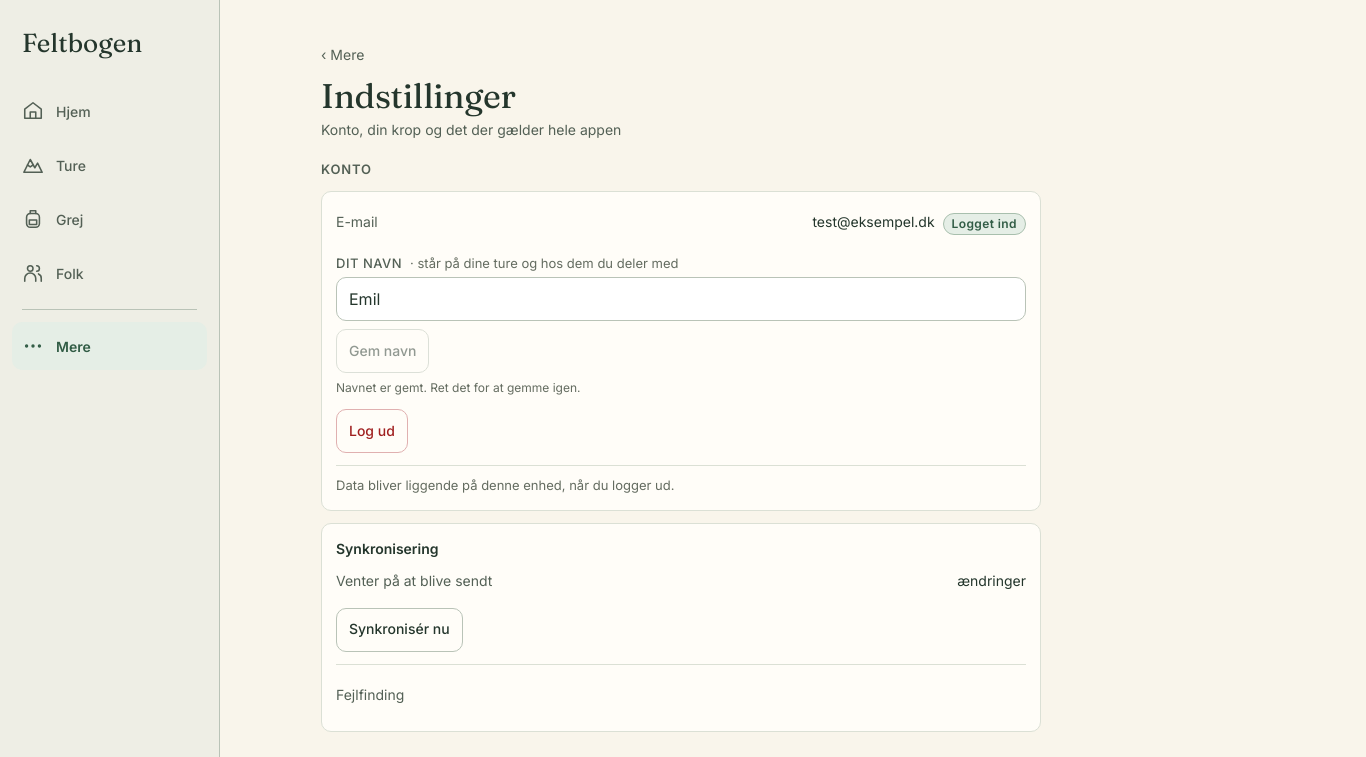
Test: navnet må ikke være tomt › gemmer et rettet navn og kvitterer
This screenshot has width=1366, height=757.
Replace the text in the field labelled "Dit navn· står på dine ture og hos dem du deler med" with "Emil K" at (681, 299), box [336,277,1026,321]
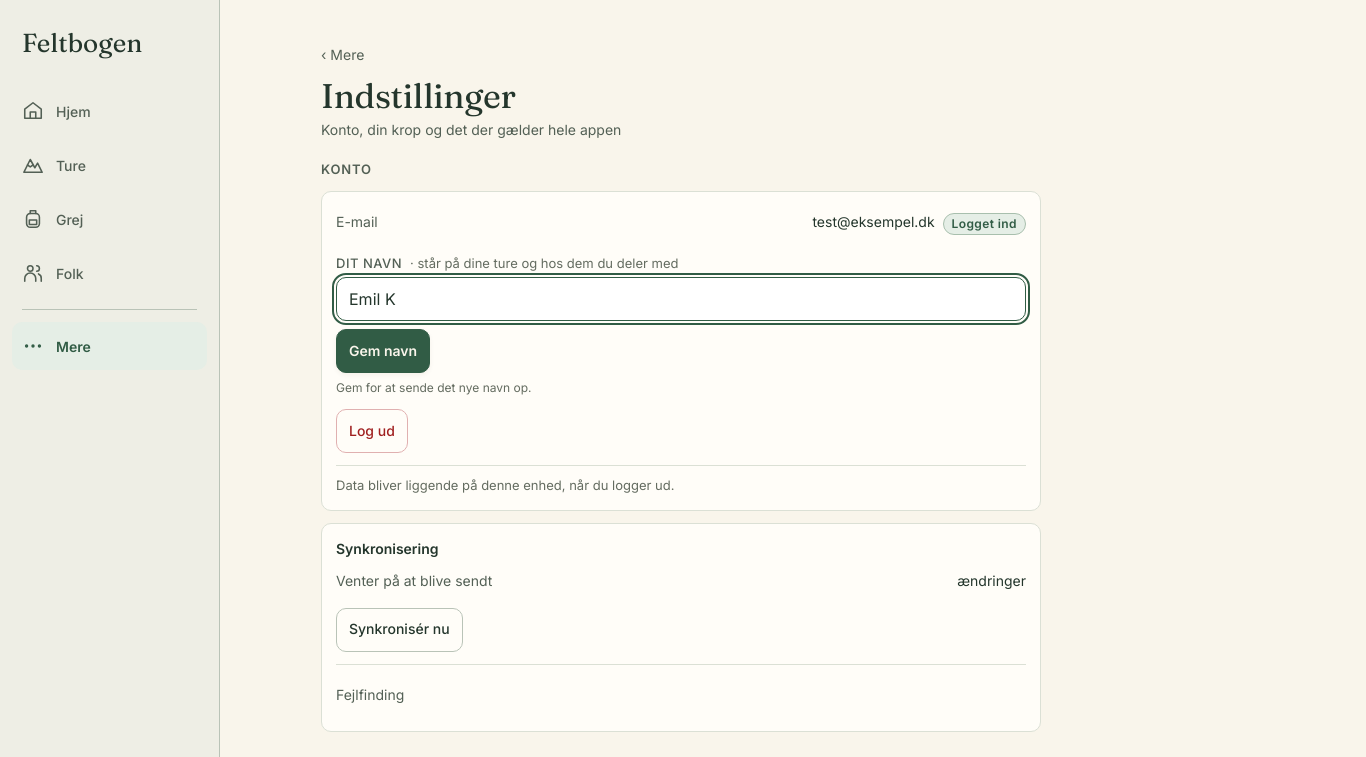
Click the button "Gem navn" at (383, 351), box [336,329,430,373]
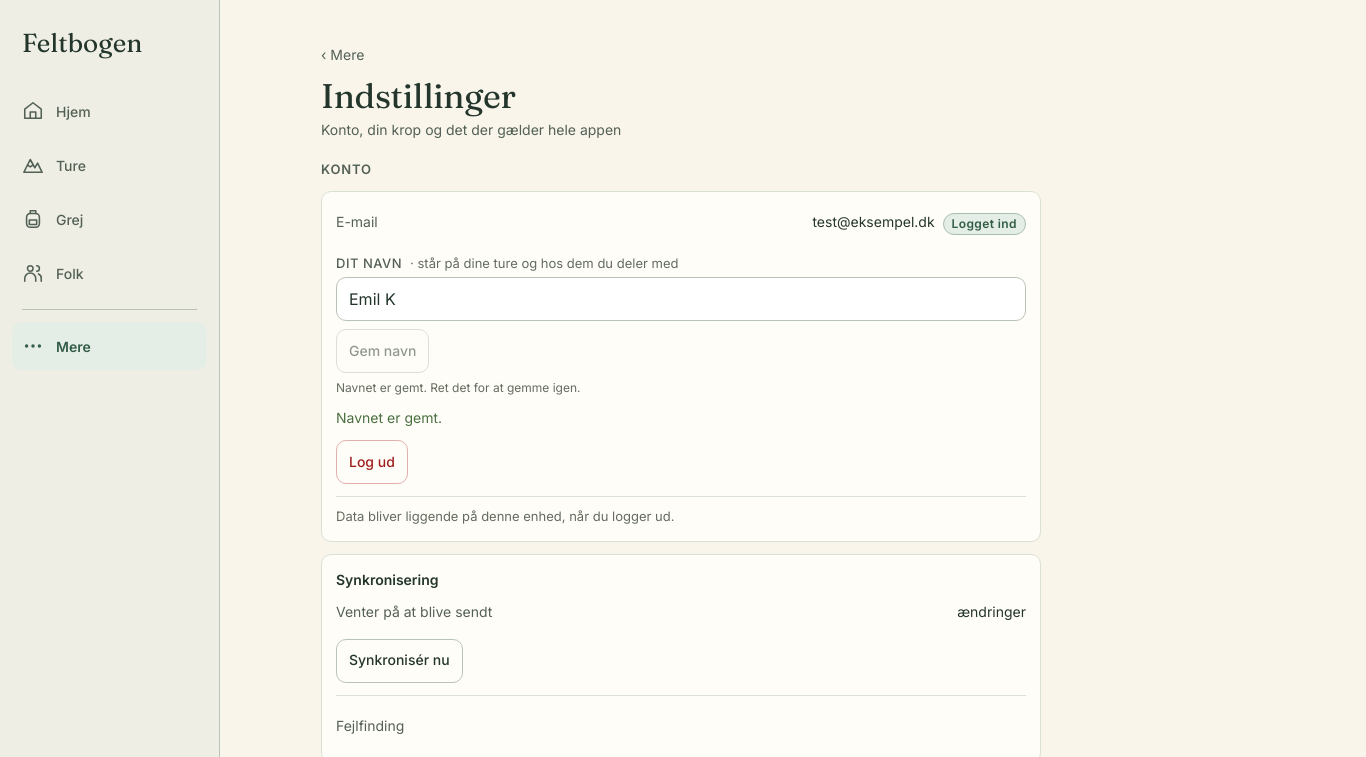
Expected: the text "Navnet er gemt." is shown, [336,409,442,426]
